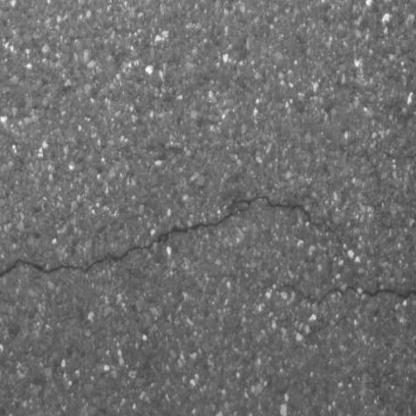Cracks: (0, 191, 327, 284), (275, 282, 416, 312)
